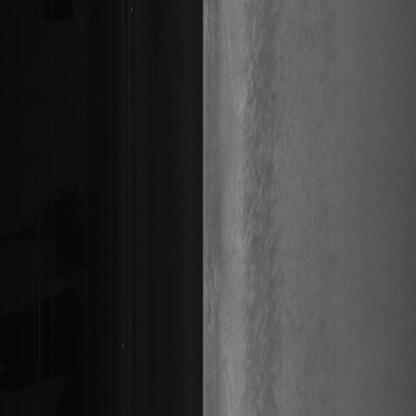silk_spot: (234, 146, 280, 242)
